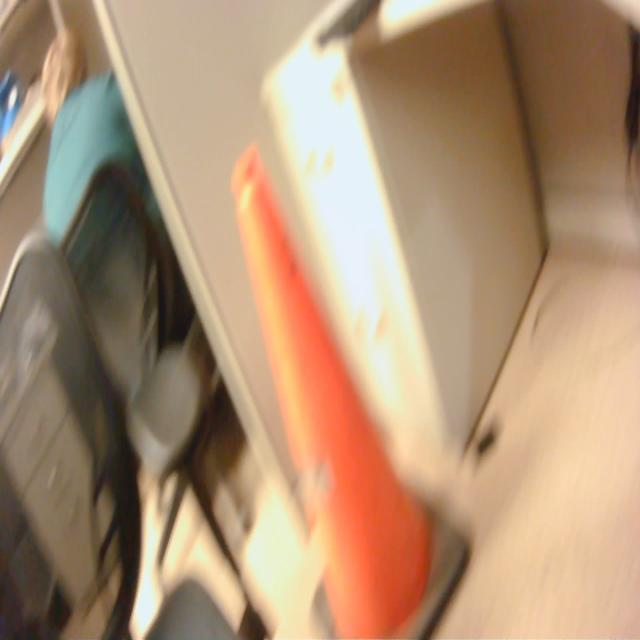traffic cone: (227, 136, 475, 640)
